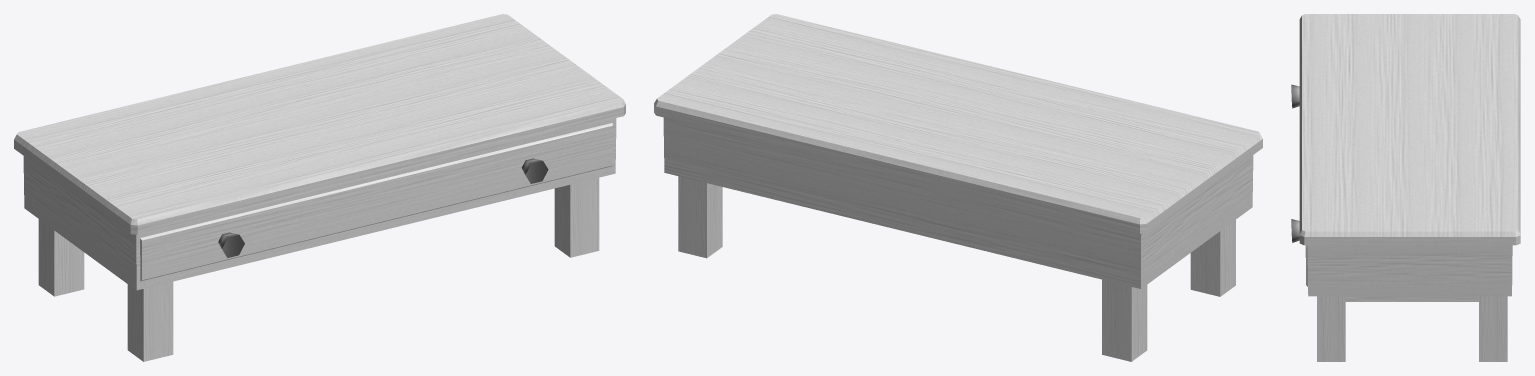
Rendered from Coffee_Table_B_2.FBX.
The picture shows the model from 3 angles, left to right: view 1: azimuth 30°, elevation 25°; view 2: azimuth 150°, elevation 25°; view 3: azimuth 270°, elevation 25°; orthographic projection. The views are drawn at different scales.
Visible parts, largest first — view 1: Coffee Table_B; view 2: Coffee Table_B; view 3: Coffee Table_B.
Part boxes in pixels (x1,y1,x2,y2): Coffee Table_B: (14, 14, 625, 361); Coffee Table_B: (654, 14, 1262, 361); Coffee Table_B: (1291, 14, 1520, 361).
Size of the model in its own units: 201 by 58.91 by 88.61.
